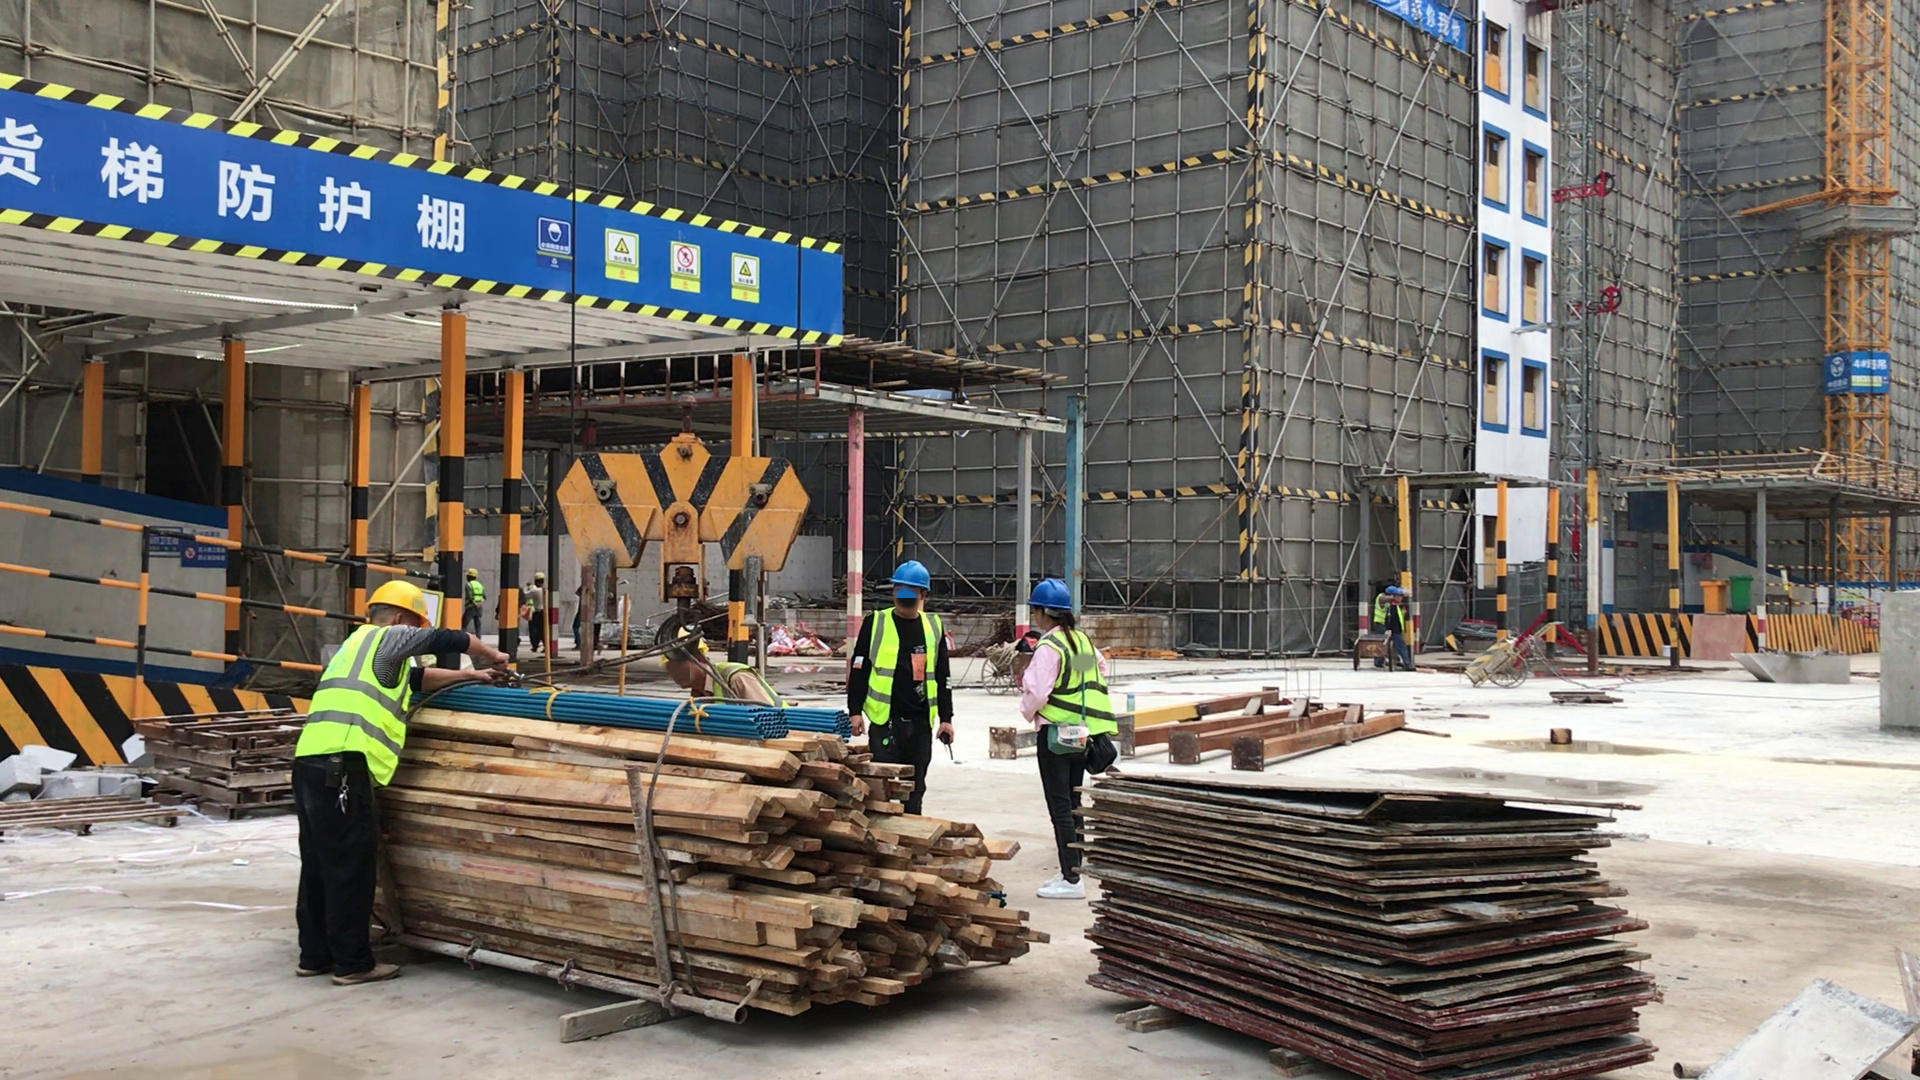board: (1082, 750, 1679, 1080)
handcart: (1469, 624, 1577, 691)
helmet: (364, 578, 426, 627), (889, 558, 933, 597), (1028, 578, 1078, 613), (465, 567, 478, 578), (1392, 587, 1404, 596), (1384, 587, 1395, 596), (533, 572, 545, 580)
hook: (548, 430, 813, 579)
hopper: (1723, 645, 1855, 694)
person: (297, 575, 426, 989), (1011, 579, 1129, 909), (848, 556, 951, 798), (655, 624, 775, 708), (462, 565, 489, 642), (524, 572, 547, 652), (1388, 588, 1408, 660), (1374, 583, 1393, 631)
slogan: (1344, 1, 1474, 67)
vest: (298, 623, 418, 790), (854, 607, 949, 744), (1019, 630, 1121, 756), (711, 656, 772, 708), (464, 578, 486, 608), (1374, 593, 1386, 625)
wood: (417, 653, 1049, 1057)
